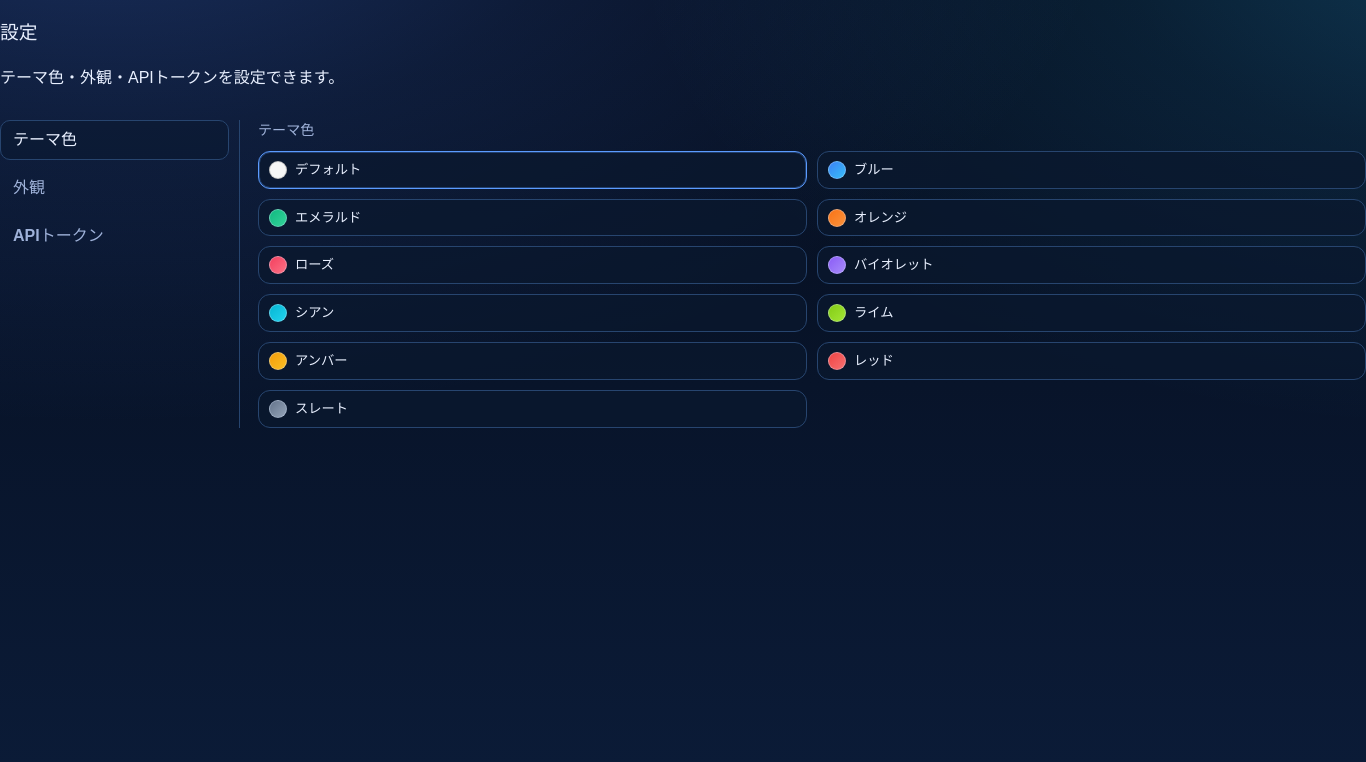
Test: SettingsPanel › hides admin-only panels immediately when bearer token is cleared
The image size is (1366, 762).
Click the tab "APIトークン".
click(114, 236)  # box top-left (0, 216), bottom-right (229, 257)
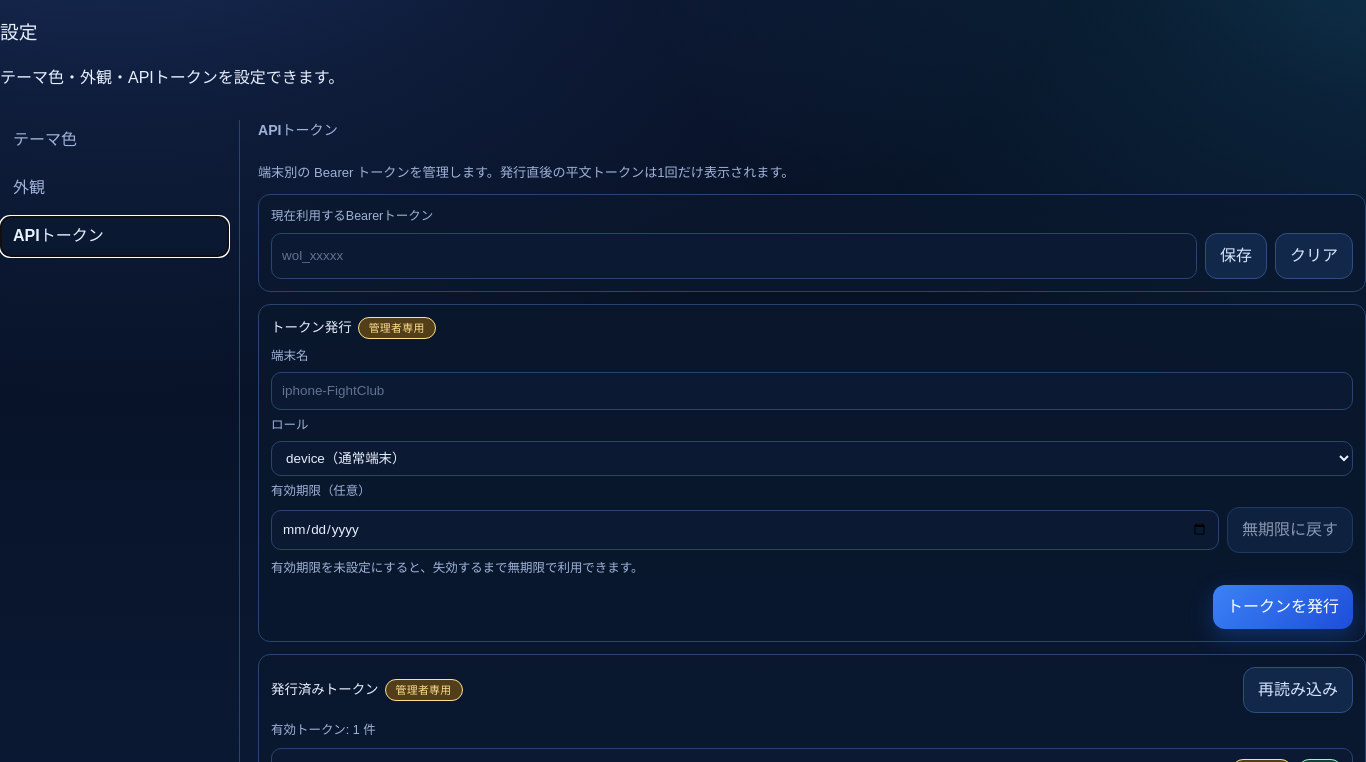
Result: the button "トークンを発行" is shown at top-left (1213, 585), bottom-right (1353, 629)
Click the button "クリア".
click(1314, 256)  # box top-left (1275, 233), bottom-right (1353, 279)
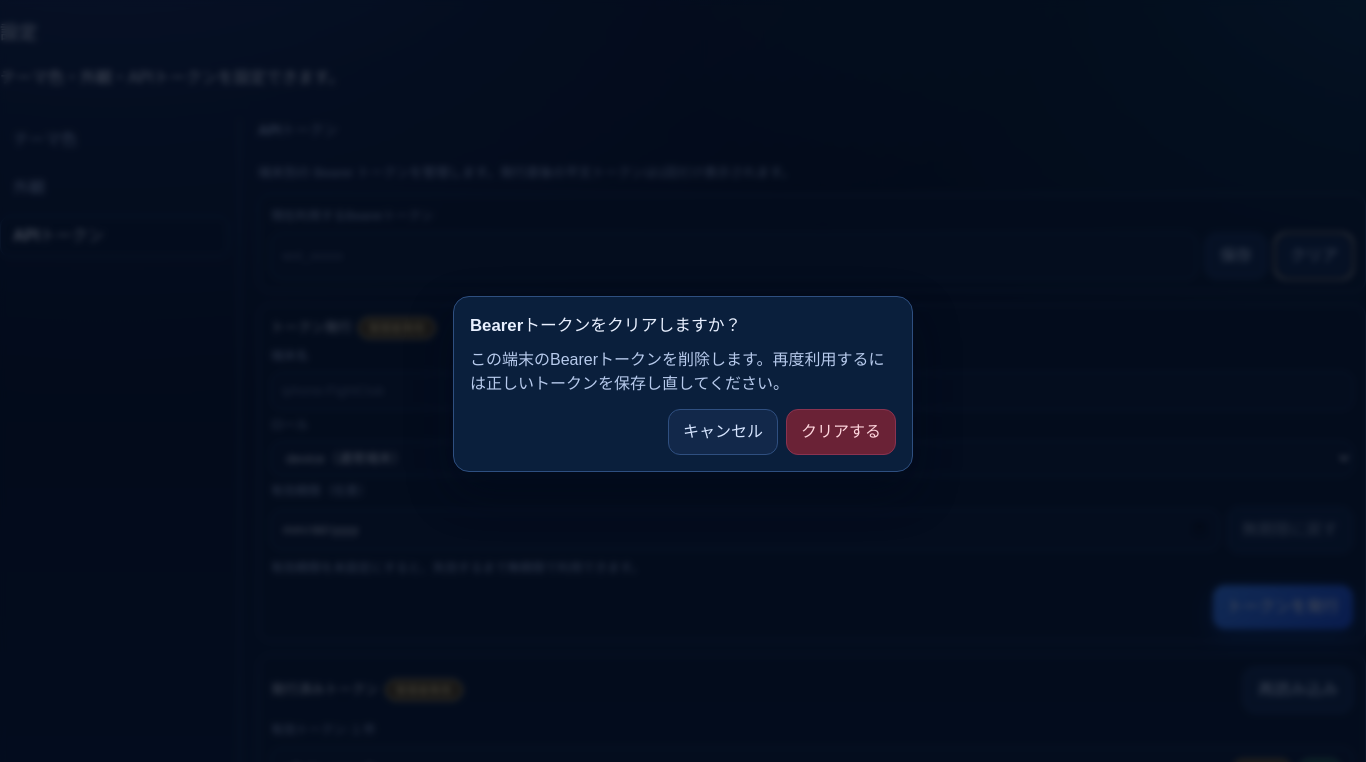
Result: the dialog is shown at top-left (453, 296), bottom-right (913, 472)
Result: the heading "Bearerトークンをクリアしますか？" is shown at top-left (470, 316), bottom-right (741, 335)
Click the button "クリアする".
click(841, 432)  # box top-left (786, 409), bottom-right (896, 455)
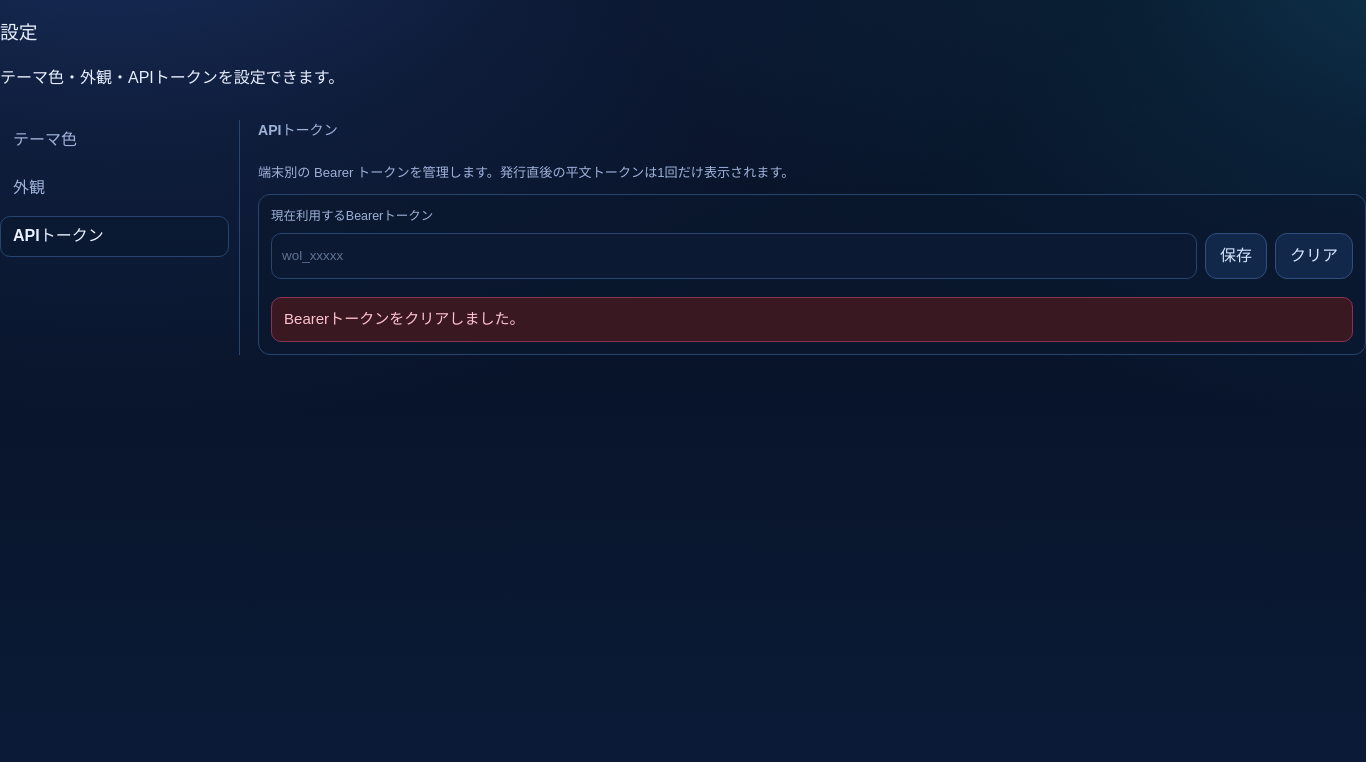
Result: the text "Bearerトークンをクリアしました。" is shown at top-left (271, 297), bottom-right (1353, 342)
Result: the button "トークンを発行" is gone
